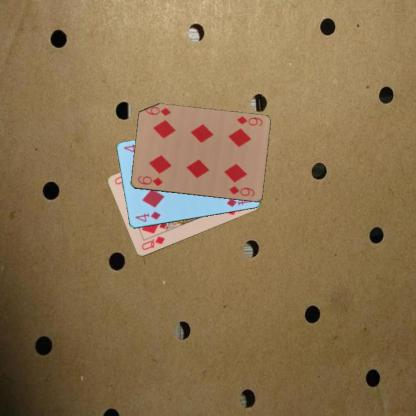4d: (133, 209, 162, 224)
6d: (135, 174, 164, 188), (234, 114, 263, 127)
Qd: (138, 234, 166, 251)
